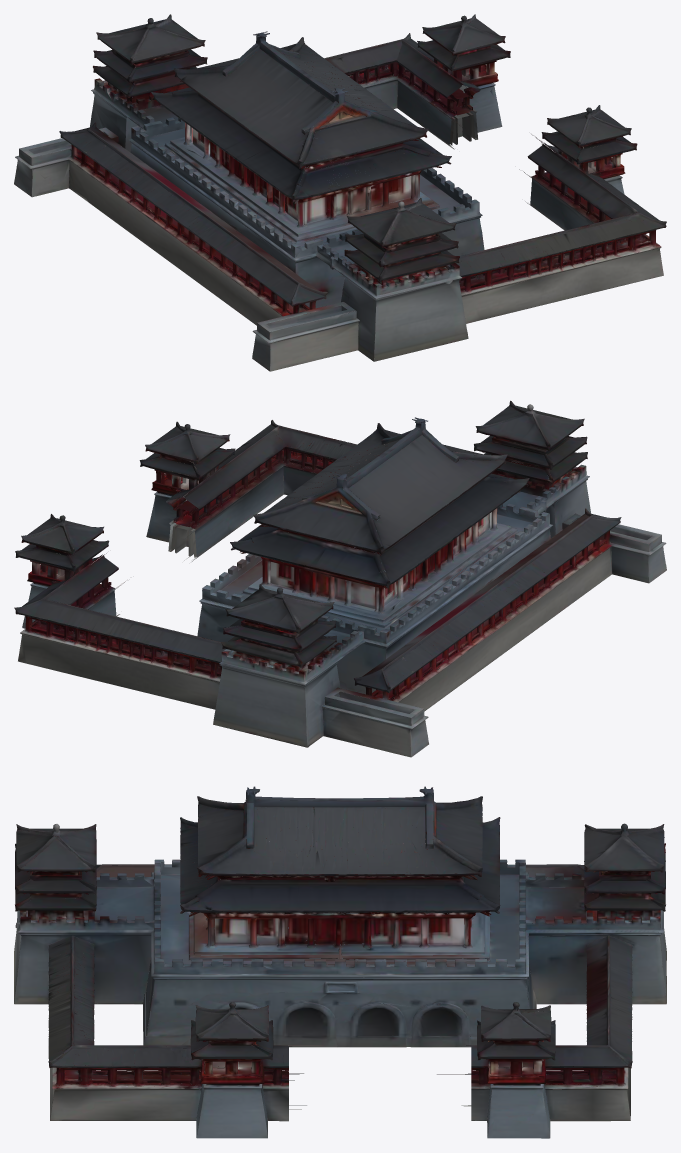
The model's file is yingtianmen.glb.
3 views of the same model, one above another, from view 1: azimuth 30°, elevation 25°; view 2: azimuth 150°, elevation 25°; view 3: azimuth 270°, elevation 25° (orthographic). The views are drawn at different scales.
Parts seen in each view (by area): view 1: node_0; view 2: node_0; view 3: node_0.
Part boxes in pixels (x1=…): node_0: x1=14, y1=14, x2=666, y2=371; node_0: x1=14, y1=400, x2=666, y2=757; node_0: x1=14, y1=786, x2=666, y2=1138.
Size of the model in its own units: 142 by 56.16 by 165.
1 material, 1 textured.
